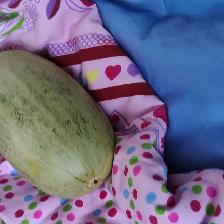gua: (4, 51, 95, 197)
